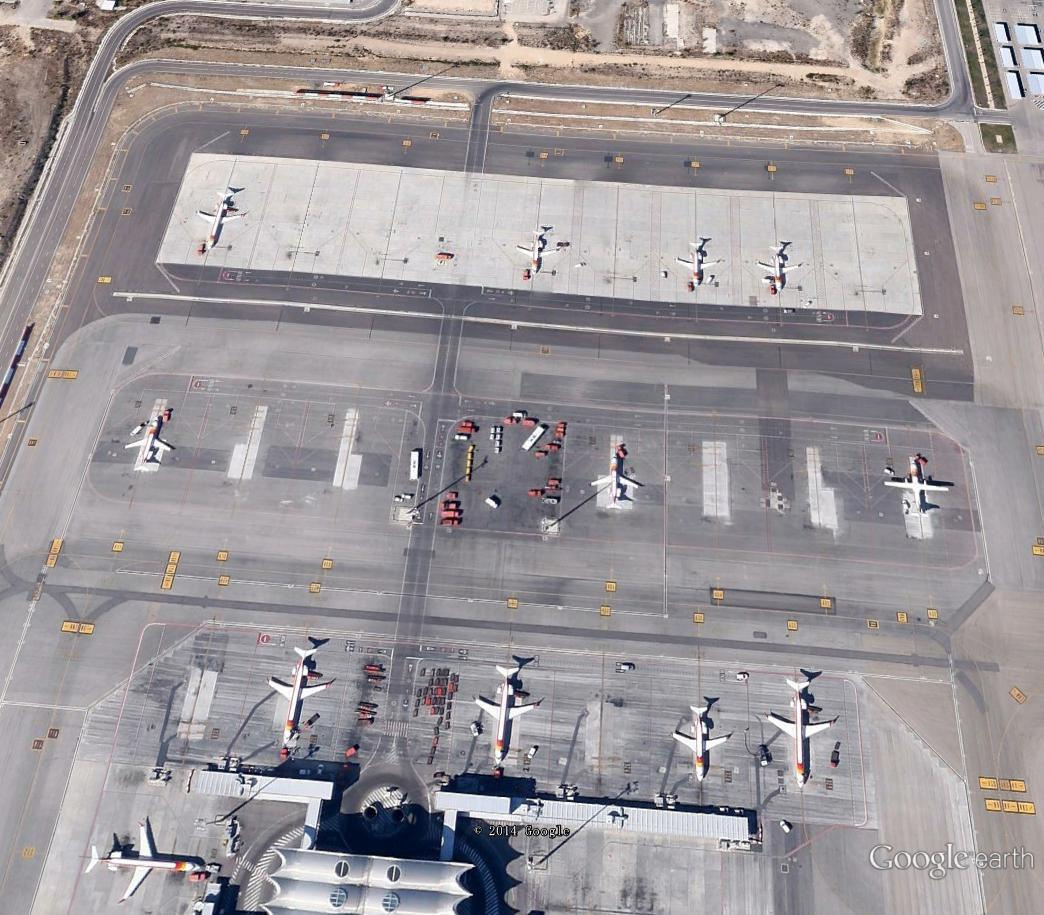aircraft: (78, 822, 213, 910), (766, 678, 846, 792), (267, 643, 336, 772), (472, 658, 544, 769), (670, 700, 736, 787), (882, 453, 960, 517), (193, 183, 252, 253), (586, 448, 645, 516), (120, 409, 181, 469), (514, 226, 564, 283), (673, 237, 724, 291), (753, 240, 804, 294)
